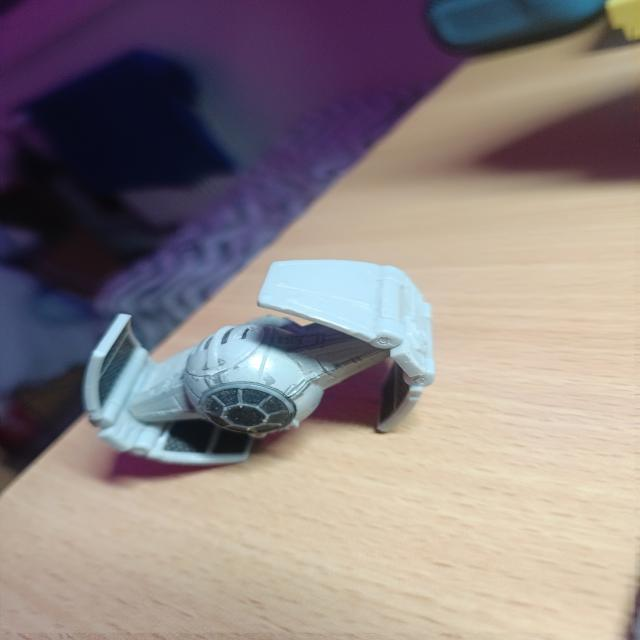tie fighter: (82, 260, 435, 465)
